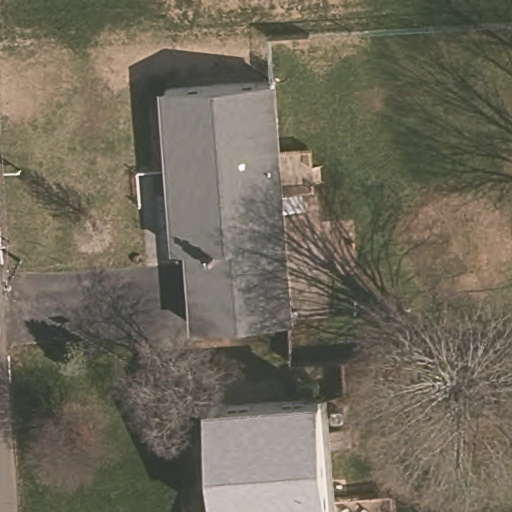DT: (1, 235, 30, 303)
